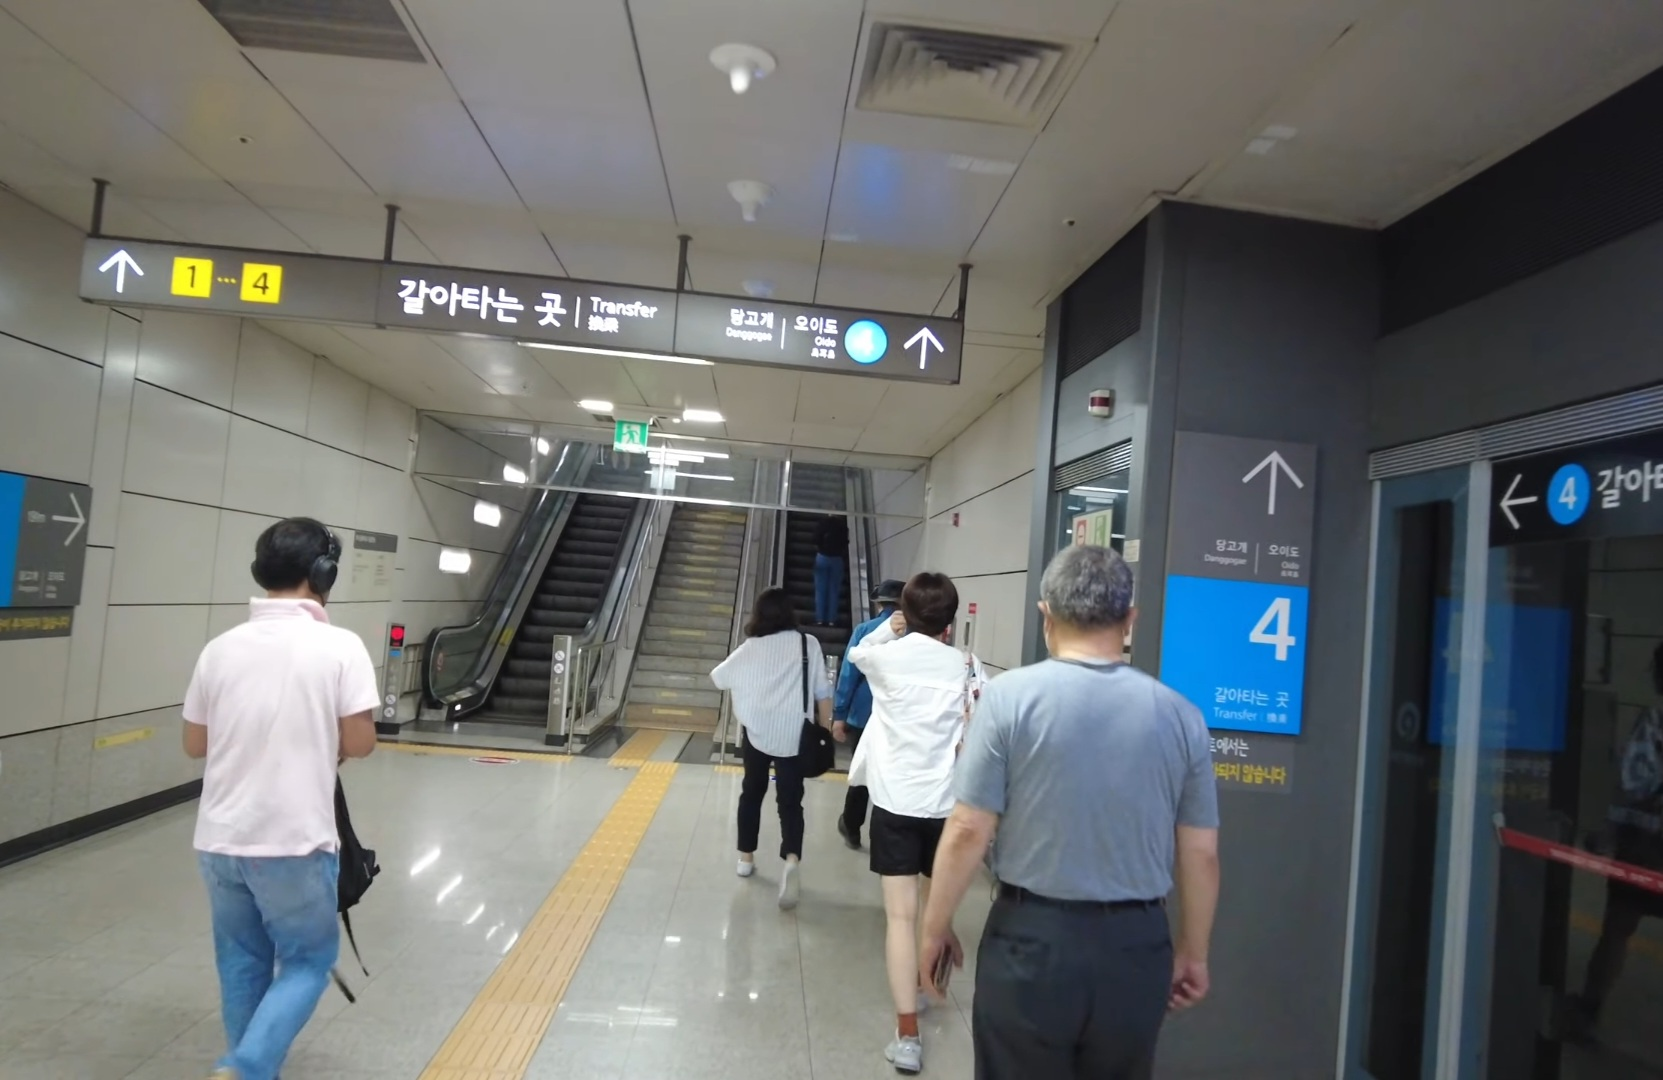signBoard: (68, 223, 972, 387)
